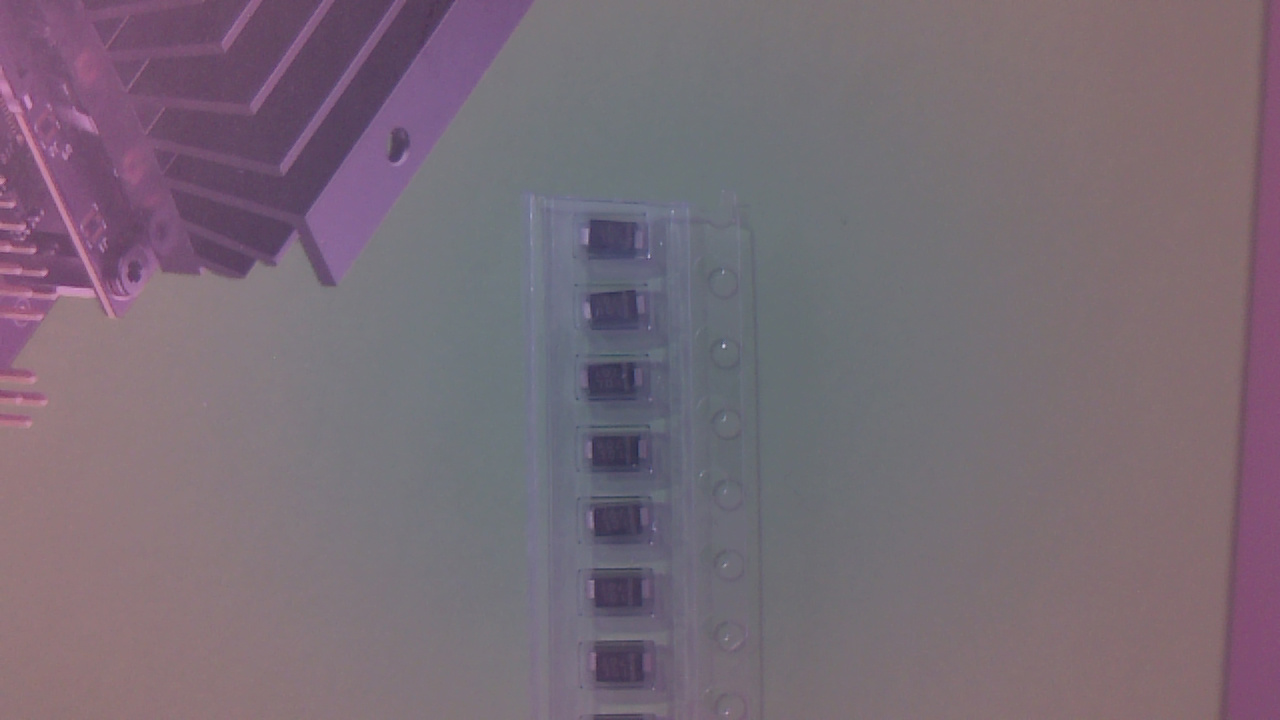Diode: (592, 647, 659, 689), (591, 576, 658, 617), (584, 364, 650, 402), (584, 295, 656, 328), (585, 224, 650, 259), (588, 438, 653, 472), (592, 507, 657, 540)
